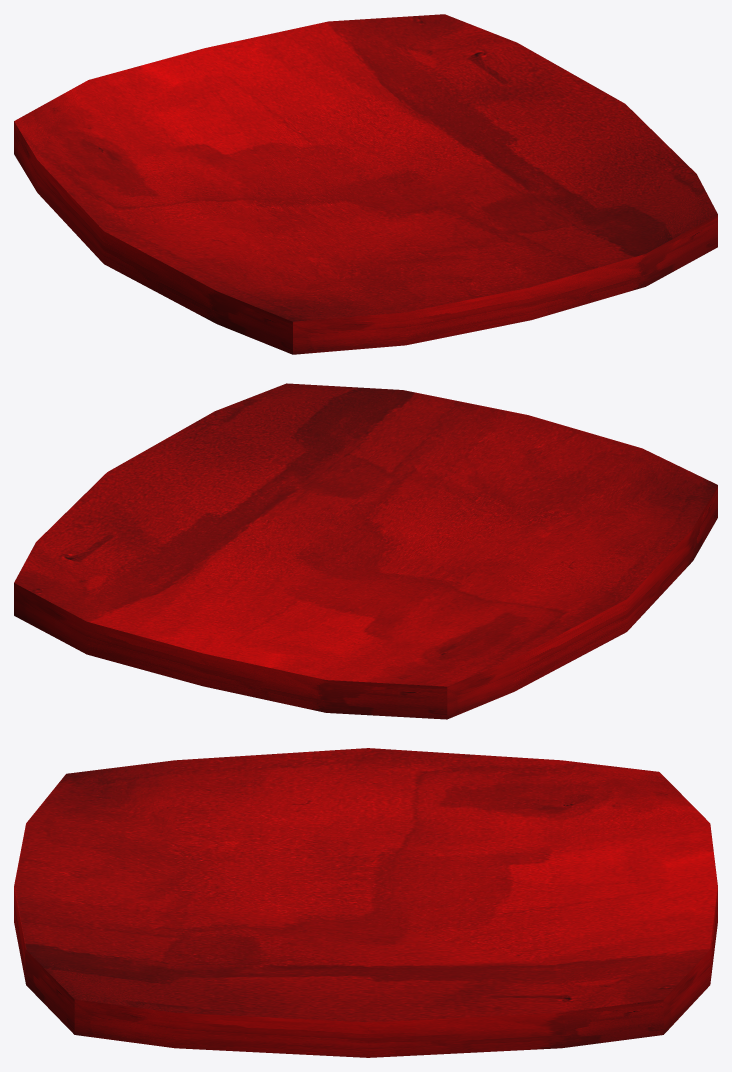
File: rood platform.FBX
3 views of the same model, one above another, from view 1: azimuth 30°, elevation 25°; view 2: azimuth 150°, elevation 25°; view 3: azimuth 270°, elevation 25° (orthographic). The views are drawn at different scales.
Visible parts, largest first — view 1: Box003; view 2: Box003; view 3: Box003.
Boxes of the visible parts, bbox=[...] form: Box003: bbox=[14, 14, 717, 354]; Box003: bbox=[14, 383, 717, 719]; Box003: bbox=[14, 748, 717, 1057].
Size of the model in its own units: 306 by 37.96 by 332.
